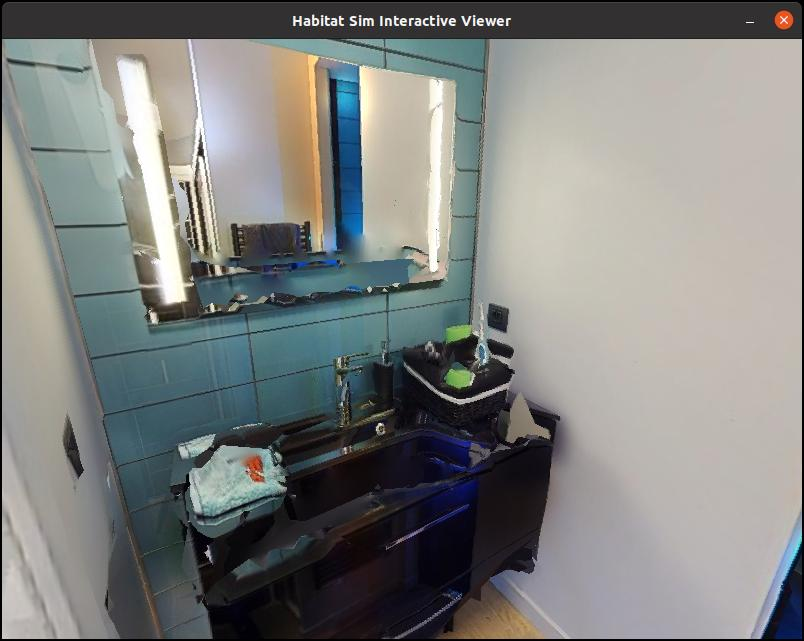sink: (255, 331, 486, 550)
